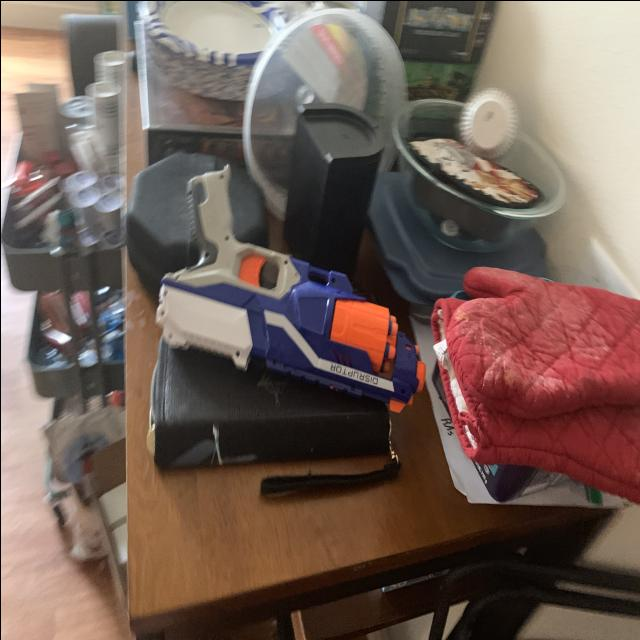nerf-maverik: (150, 150, 438, 424)
